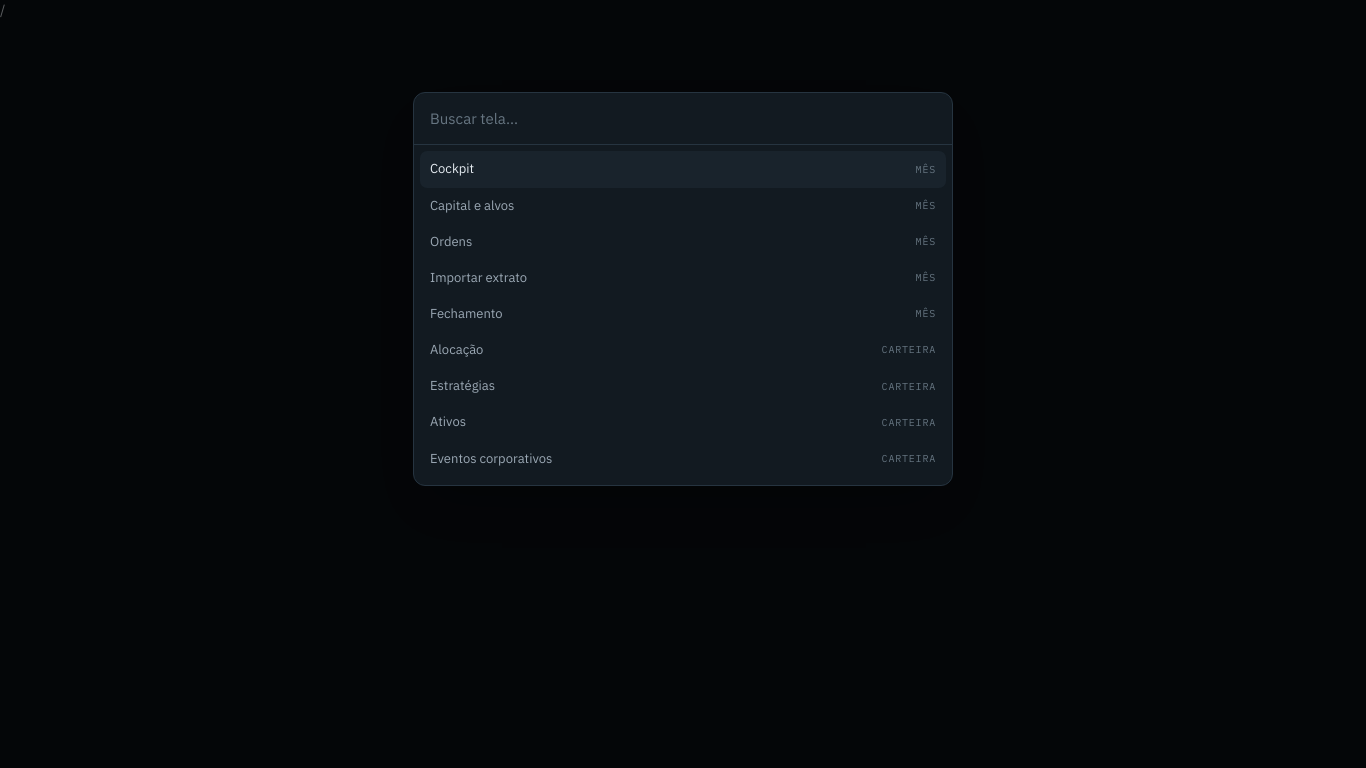
Test case: CommandPalette › navigates when a command is clicked
Click the button "Fechamento Mês" at (466, 313), box x1=420 y1=296 x2=946 y2=332
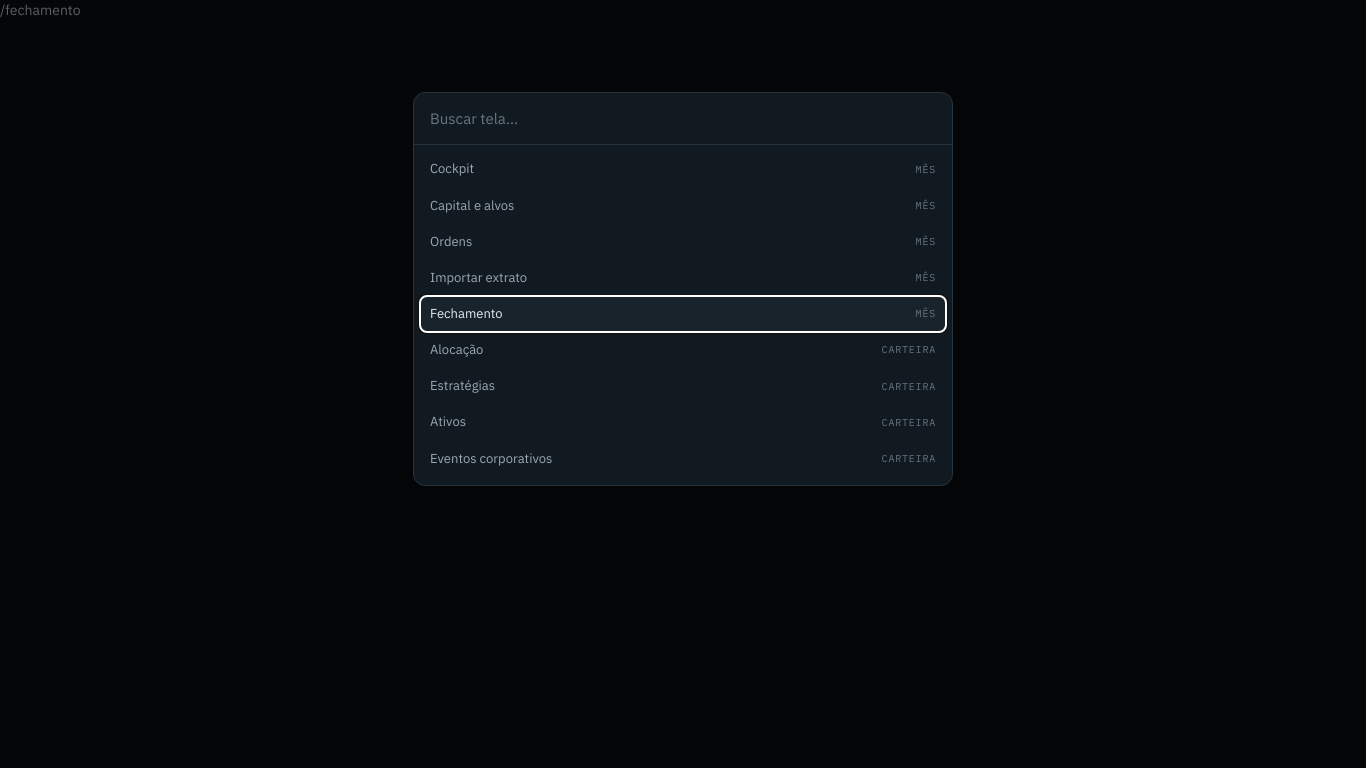
Expected: the text with test id "location" reads "/fechamento", x1=0 y1=1 x2=81 y2=19
